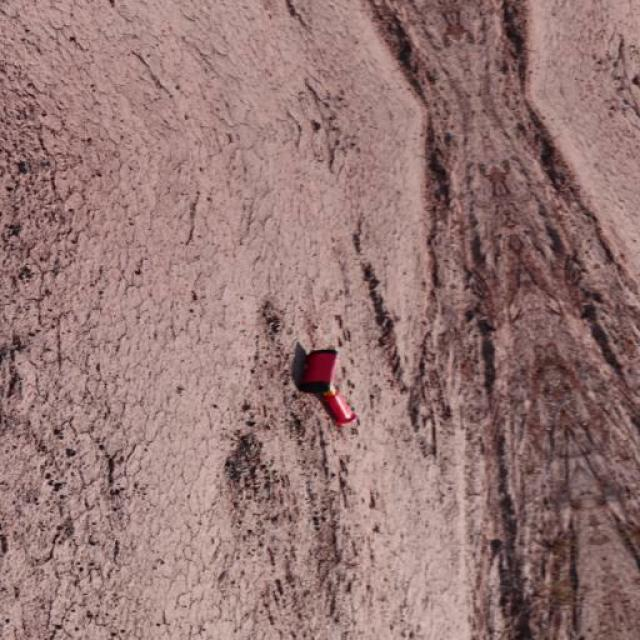mallet: (292, 340, 360, 426)
